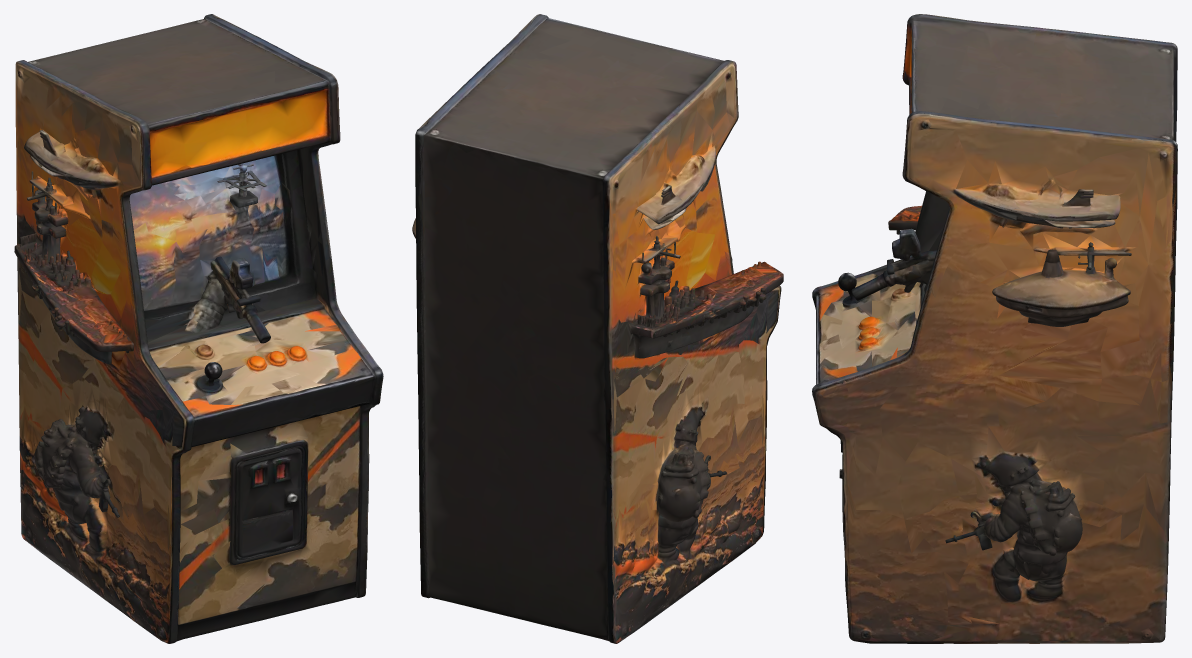
The model's file is cab-cod.glb.
3 views of the same model, side by side, from view 1: azimuth 30°, elevation 25°; view 2: azimuth 150°, elevation 25°; view 3: azimuth 270°, elevation 25° (orthographic). The views are drawn at different scales.
Visible parts, largest first — view 1: tripo_node_69c6479e-39c7-4768-999d-b44aef4e5397; view 2: tripo_node_69c6479e-39c7-4768-999d-b44aef4e5397; view 3: tripo_node_69c6479e-39c7-4768-999d-b44aef4e5397.
Boxes of the visible parts, left/top/right/bottom form: tripo_node_69c6479e-39c7-4768-999d-b44aef4e5397: left=14, top=14, right=383, bottom=643; tripo_node_69c6479e-39c7-4768-999d-b44aef4e5397: left=412, top=14, right=783, bottom=643; tripo_node_69c6479e-39c7-4768-999d-b44aef4e5397: left=812, top=14, right=1177, bottom=643.
Bounding box in the file's own units: 0.6137 × 0.9793 × 0.6124.
1 material, 1 textured.
